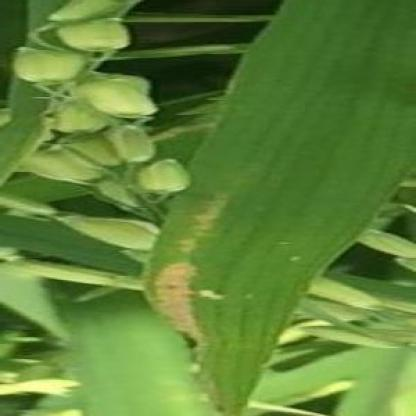Blight: (142, 1, 414, 414)
